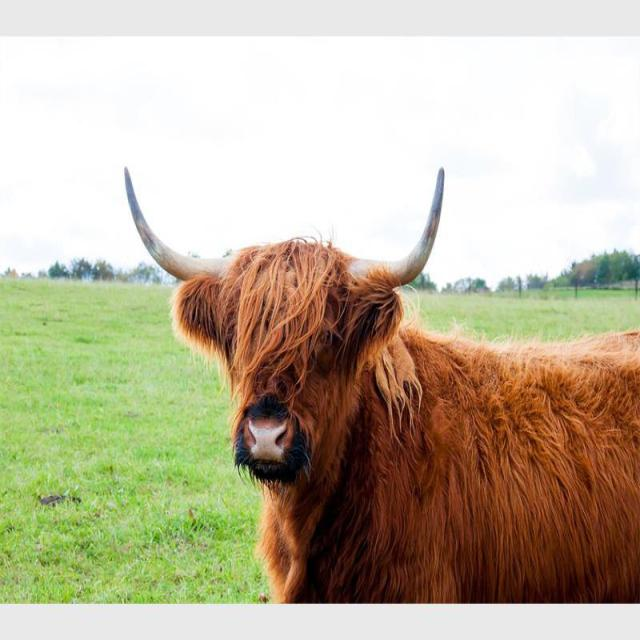Ox: (119, 148, 640, 603)
